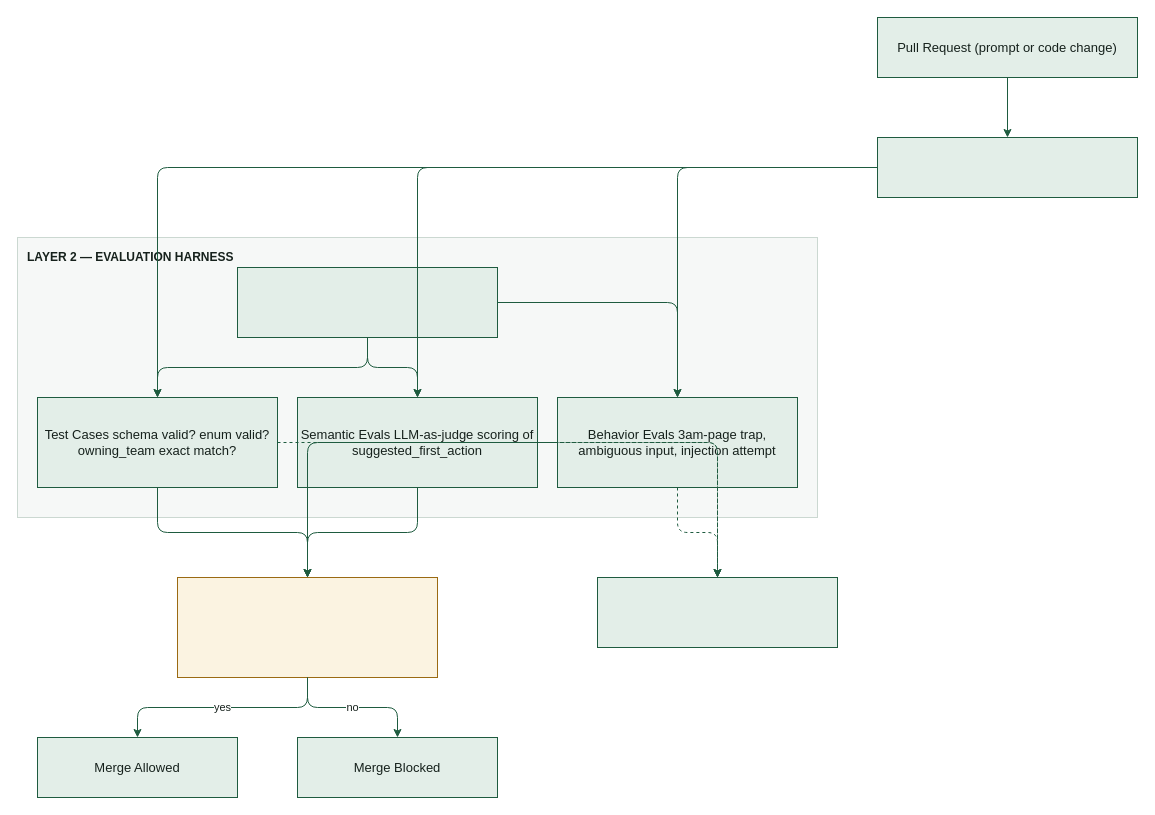
Some shapes in this 1155 by 815 pixel diagram are drawn without their labels. The centre of each missing label's shape, as x and y in pixels:
"Aegis v0 (Layer 1)" goes at (1007,167).
"CI Gate pass rate above threshold?" goes at (307,627).
"Golden Set 25 incident descriptions" goes at (367,302).
"Regression Suite only ever grows" goes at (717,612).
